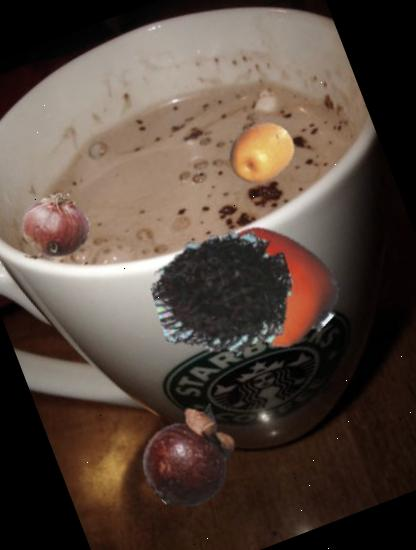Kaki: (191, 200, 359, 368)
Kumquats: (216, 108, 306, 197)
Mangostan: (124, 390, 260, 526)
Onion: (0, 170, 112, 280)
Rambutan: (134, 205, 314, 385)
